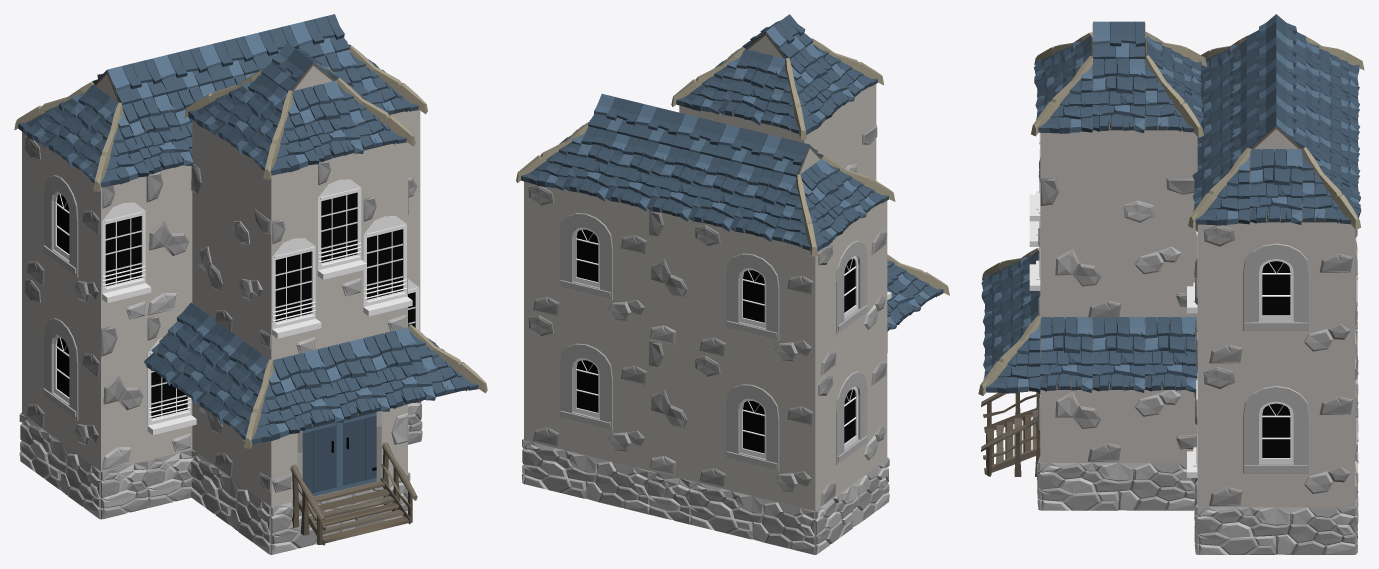
The model's file is house_6.fbx.
3 renders of one model, left to right at view 1: azimuth 30°, elevation 25°; view 2: azimuth 150°, elevation 25°; view 3: azimuth 270°, elevation 25°, orthographic. The views are drawn at different scales.
Parts seen in each view (by area): view 1: WINDOW_07_10, WALL_05_3, WINDOW_07_11, DOOR_03_2, WINDOW_01_10, WALL_03_3, WALL_03_2, WINDOW_01_14, WINDOW_01_9, WINDOW_01_11, STAIRS_01_2, WINDOW_01_15 (+41 smaller); view 2: WINDOW_07_12, WINDOW_07_15, WINDOW_07_14, WINDOW_07_13, WINDOW_07_10, WINDOW_07_11, FOUNDATION_01_7, FOUNDATION_01_6, WALL_03_4, WALL_03_5, FOUNDATION_01_8, ROOF_base_13 (+26 smaller); view 3: WINDOW_07_16, WINDOW_07_17, WALL_05_4, WALL_05_5, FOUNDATION_01_5, FOUNDATION_01_4, ROOF_base_23, ROOF_base_9, ROOF_base_8, ROOF_base_12, ROOF_base_10, STAIRS_01_2 (+43 smaller).
Part boxes in pixels (box(x1,y1,x2,y2)): WINDOW_07_10: box(22, 271, 103, 471); WALL_05_3: box(191, 164, 272, 359); WINDOW_07_11: box(22, 132, 103, 328); DOOR_03_2: box(271, 405, 408, 506); WINDOW_01_10: box(316, 153, 366, 304); WALL_03_3: box(146, 165, 192, 317); WALL_03_2: box(101, 317, 146, 471); WINDOW_01_14: box(101, 176, 151, 327); WINDOW_01_9: box(271, 210, 321, 359); WINDOW_01_11: box(362, 187, 412, 339); STAIRS_01_2: box(290, 442, 417, 545); WINDOW_01_15: box(146, 308, 196, 460); WINDOW_07_12: box(690, 350, 816, 510); WINDOW_07_15: box(524, 309, 648, 470); WINDOW_07_14: box(524, 181, 648, 339); WINDOW_07_13: box(690, 220, 815, 379); WINDOW_07_10: box(813, 328, 887, 511); WINDOW_07_11: box(813, 201, 887, 380); FOUNDATION_01_7: box(689, 481, 816, 554); FOUNDATION_01_6: box(522, 440, 649, 514); WALL_03_4: box(649, 340, 690, 480); WALL_03_5: box(649, 209, 690, 350); FOUNDATION_01_8: box(812, 458, 889, 554); ROOF_base_13: box(719, 49, 785, 125); WINDOW_07_16: box(1197, 364, 1354, 507); WINDOW_07_17: box(1197, 222, 1354, 364); WALL_05_4: box(1040, 178, 1197, 318); WALL_05_5: box(1040, 390, 1197, 462); FOUNDATION_01_5: box(1197, 507, 1354, 554); FOUNDATION_01_4: box(1040, 463, 1195, 510); ROOF_base_23: box(1249, 149, 1302, 224); ROOF_base_9: box(1092, 317, 1145, 392); ROOF_base_8: box(1040, 317, 1092, 392); ROOF_base_12: box(1092, 58, 1145, 133); ROOF_base_10: box(1144, 317, 1197, 392); STAIRS_01_2: box(981, 390, 1040, 476).
Size of the model in its own units: 737 by 959 by 737.
